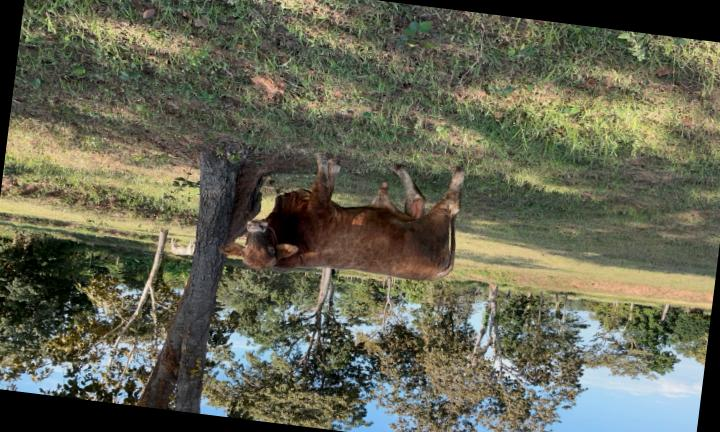Charolais: (219, 155, 464, 280)
